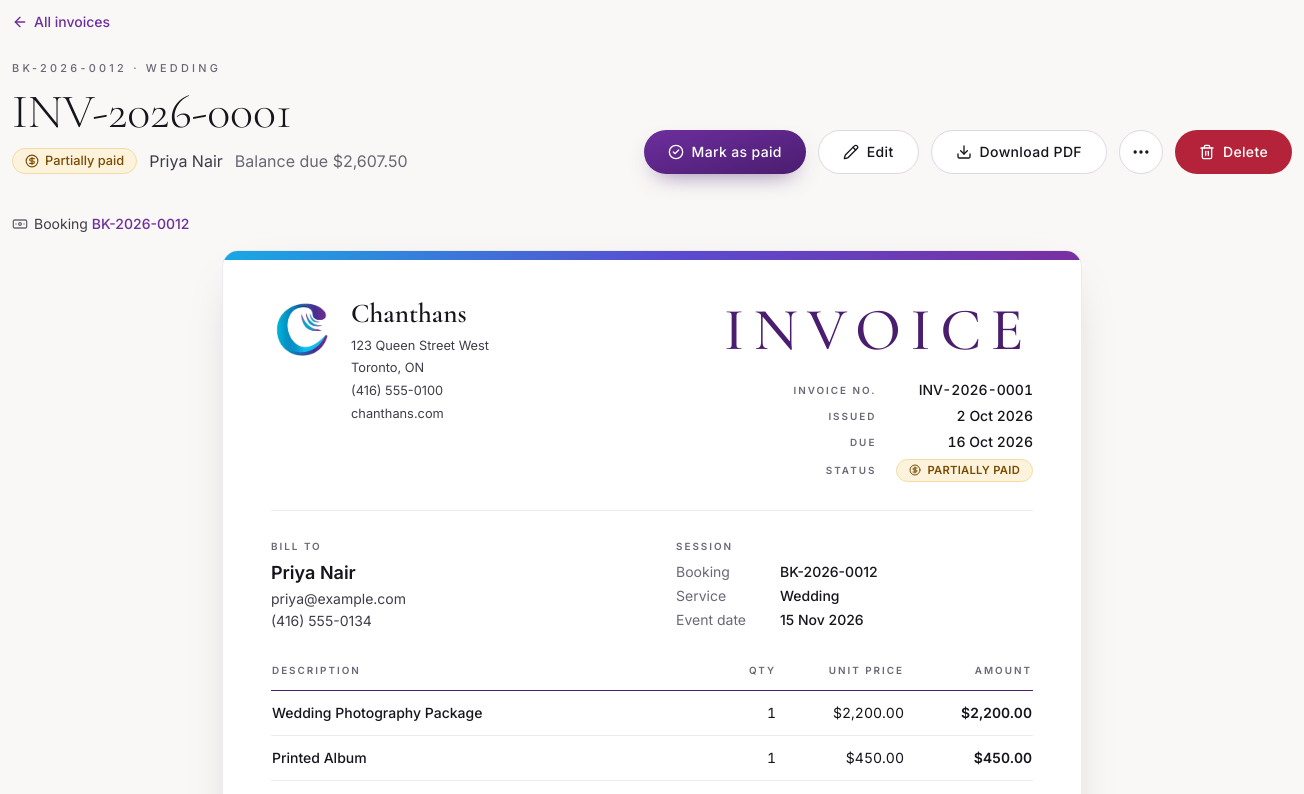
Test: InvoiceDetailPage › downloads the PDF with the auth-fetched blob
The width and height of the screenshot is (1304, 794).
Click the button "Download PDF" at x=1019, y=152, box [931,130,1107,174]
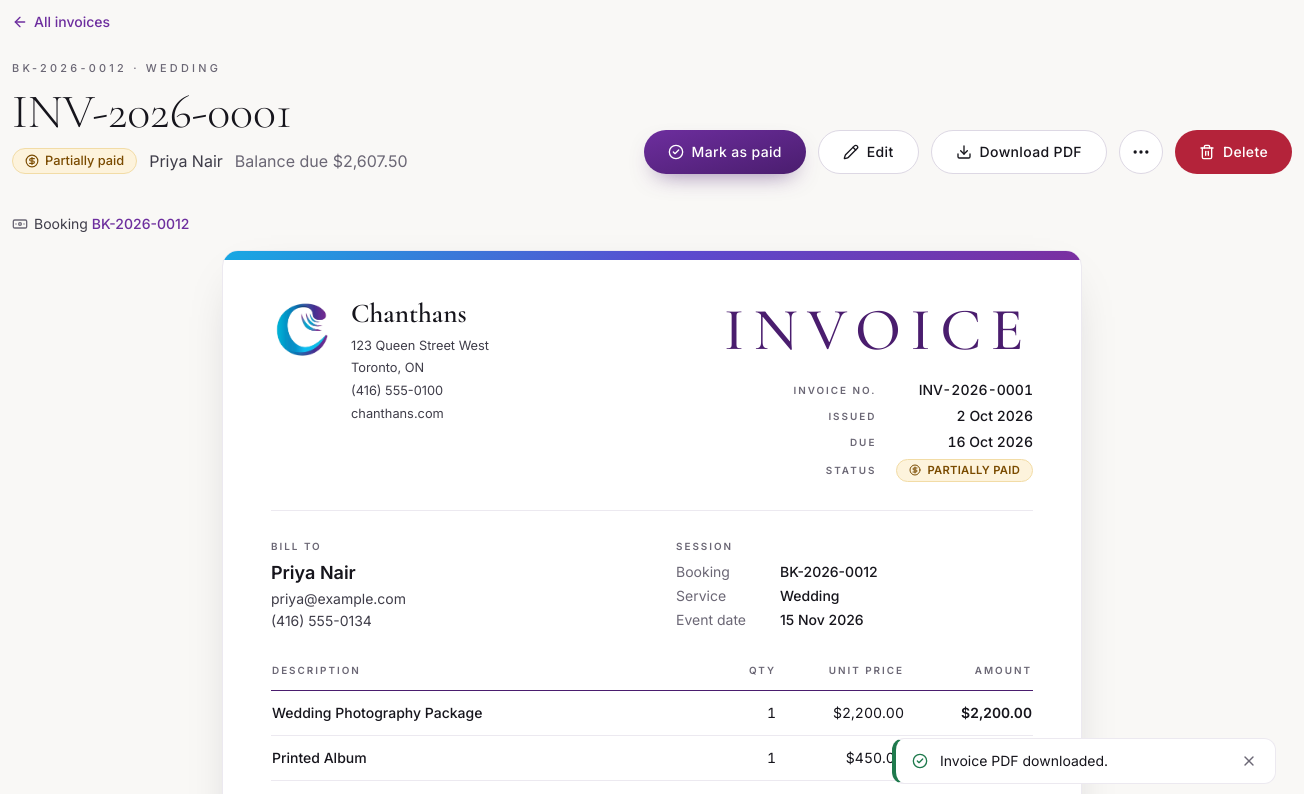
Expected: the text "Invoice PDF downloaded." is shown, [940,752,1108,769]
